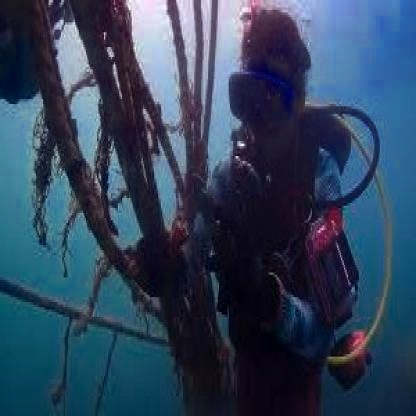net: (25, 2, 216, 392)
